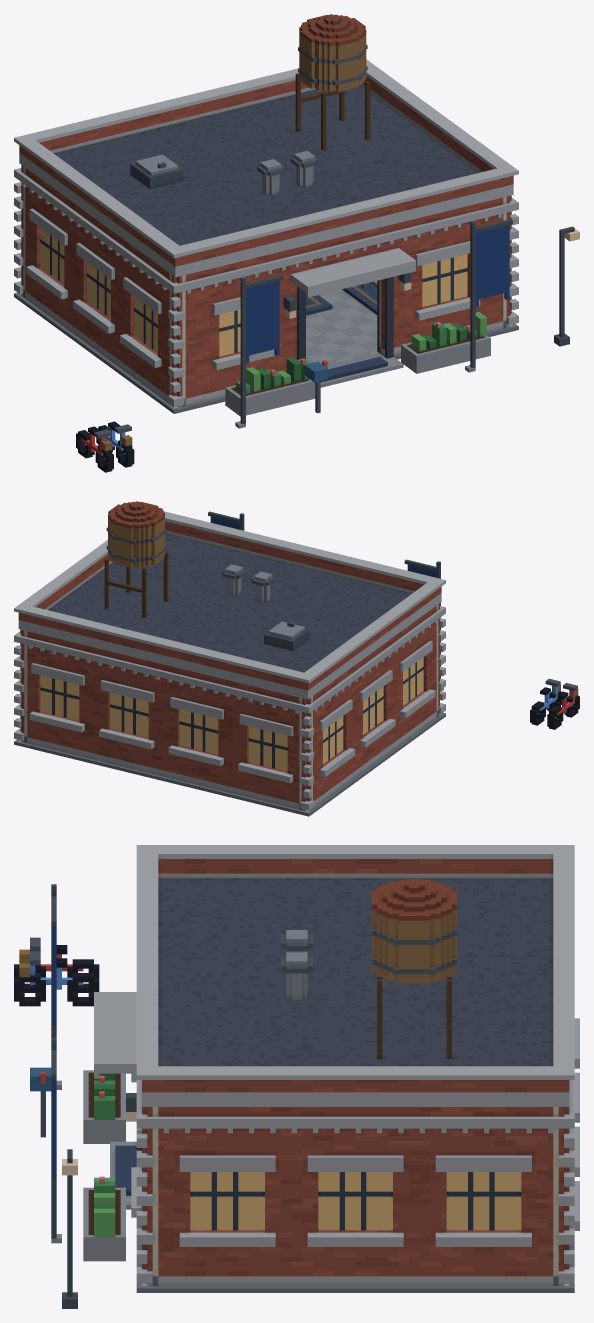
3 views of the same model, one above another, from view 1: azimuth 30°, elevation 25°; view 2: azimuth 150°, elevation 25°; view 3: azimuth 270°, elevation 25° (orthographic). The views are drawn at different scales.
Parts seen in each view (by area): view 1: CutRoof, Base, CutPZ, CutNX, CutNZ; view 2: CutRoof, CutNZ, Base, CutNX, CutPZ; view 3: CutRoof, CutPX, Base, CutPZ, CutNZ.
Boxes of the visible parts, x1,y1,x2,y2 form: CutRoof: (14, 14, 518, 277); Base: (14, 219, 579, 472); CutPZ: (168, 195, 518, 378); CutNX: (18, 168, 172, 370); CutNZ: (14, 165, 25, 265); CutRoof: (14, 501, 445, 699); CutNZ: (14, 629, 313, 786); Base: (14, 511, 579, 816); CutNX: (310, 605, 442, 779); CutPZ: (436, 603, 445, 689); CutRoof: (136, 845, 574, 1106); CutPX: (147, 1107, 563, 1246); Base: (14, 884, 574, 1308); CutPZ: (94, 992, 158, 1244); CutNZ: (553, 1018, 579, 1244).
Size of the model in its own units: 14.6 by 7.3 by 10.6.
